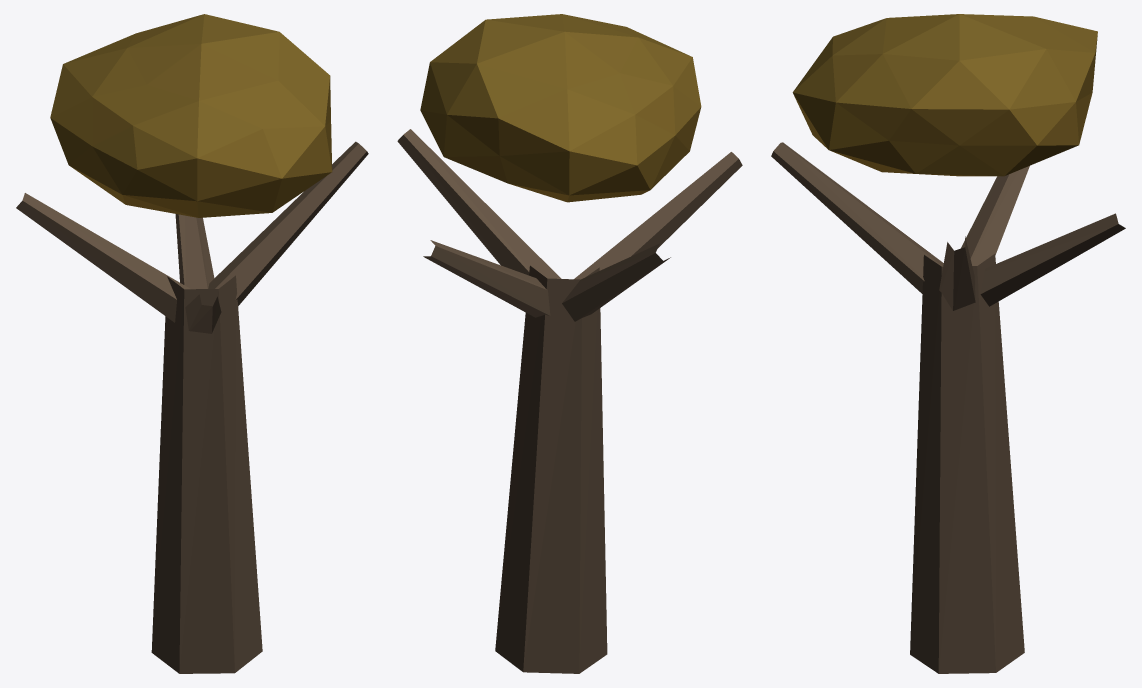
Rendered from 0918-Street-trees-and-bushes-ipeYellow.glb.
3 views of the same model, side by side, from view 1: azimuth 30°, elevation 25°; view 2: azimuth 150°, elevation 25°; view 3: azimuth 270°, elevation 25° (orthographic). The views are drawn at different scales.
Visible parts, largest first — view 1: Street trees and bushes/ipeYellow; view 2: Street trees and bushes/ipeYellow; view 3: Street trees and bushes/ipeYellow.
Part boxes in pixels (box(x1,y1,x2,y2)): Street trees and bushes/ipeYellow: box(16, 14, 368, 673); Street trees and bushes/ipeYellow: box(397, 14, 742, 673); Street trees and bushes/ipeYellow: box(771, 14, 1125, 673).
Bounding box in the file's own units: 0.3588 × 0.679 × 0.345.
